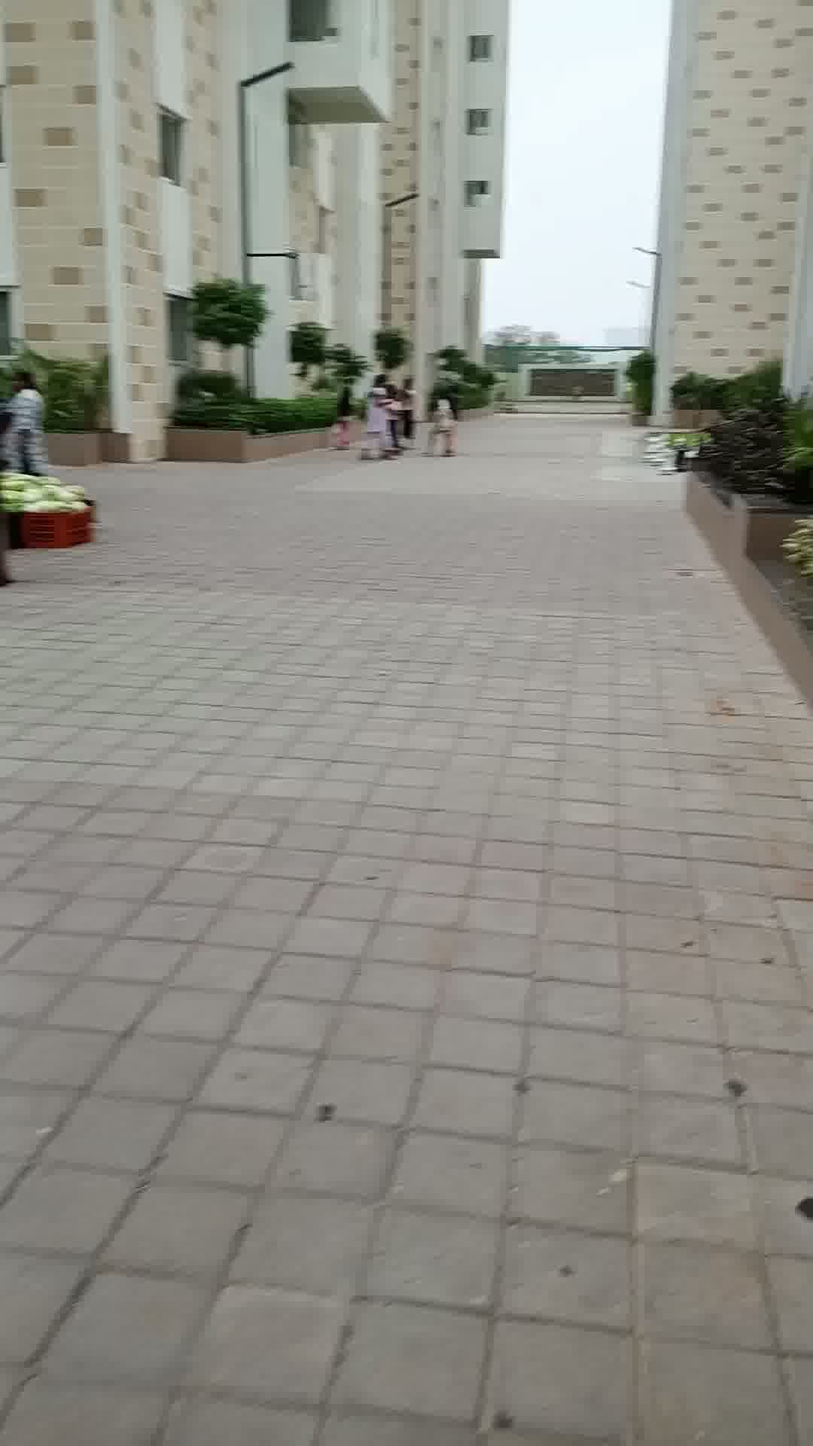person: (6, 342, 65, 524)
tree: (179, 245, 282, 441), (282, 293, 339, 424), (367, 302, 413, 387)
